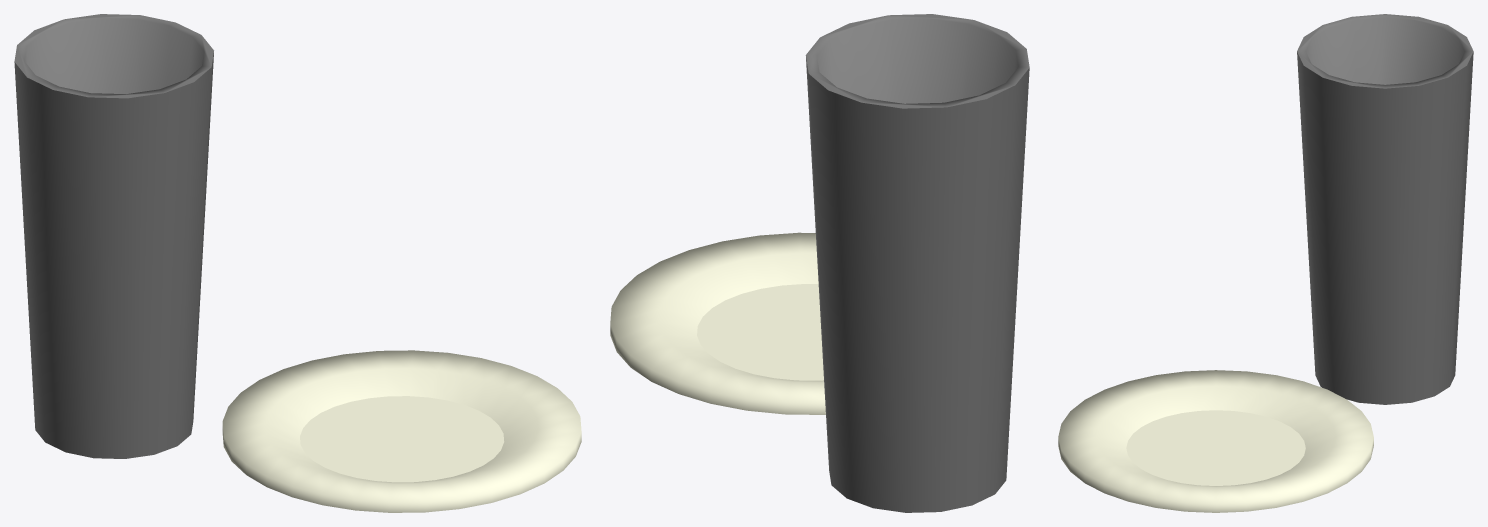
The model's file is leche-plato.fbx.
The picture shows the model from 3 angles, left to right: view 1: azimuth 30°, elevation 25°; view 2: azimuth 150°, elevation 25°; view 3: azimuth 270°, elevation 25°; orthographic projection. The views are drawn at different scales.
Visible parts, largest first — view 1: vaso, plato; view 2: vaso, plato; view 3: vaso, plato.
Part boxes in pixels (box(x1,y1,x2,y2)): vaso: box(14, 14, 213, 458); plato: box(222, 350, 581, 512); vaso: box(805, 14, 1029, 512); plato: box(610, 232, 825, 414); vaso: box(1297, 14, 1473, 404); plato: box(1058, 370, 1373, 512).
Bounding box in the file's own units: 20.91 × 17.02 × 19.75.
